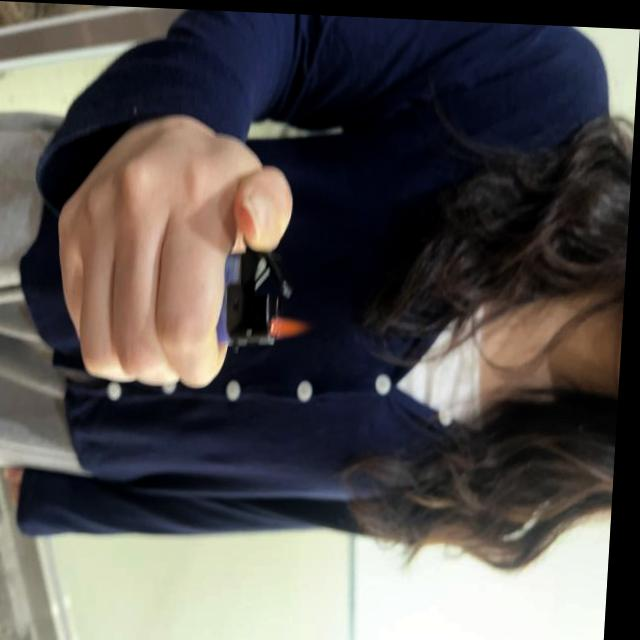Fire: (277, 308, 316, 341)
